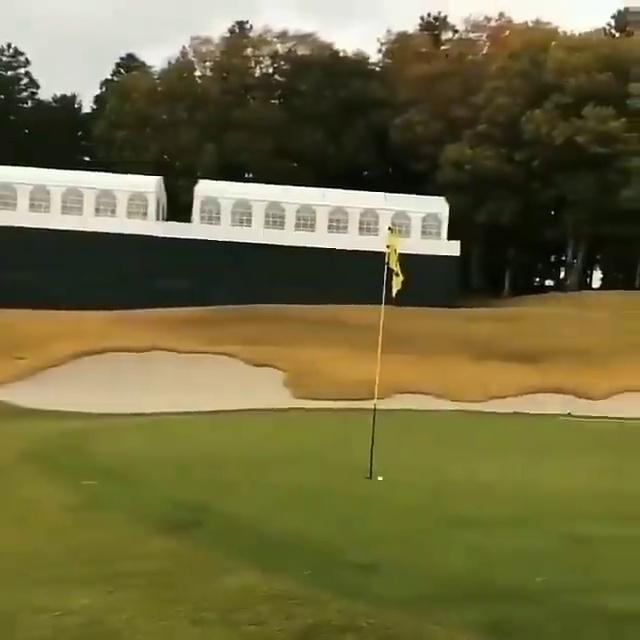golf ball: (377, 475, 383, 480)
